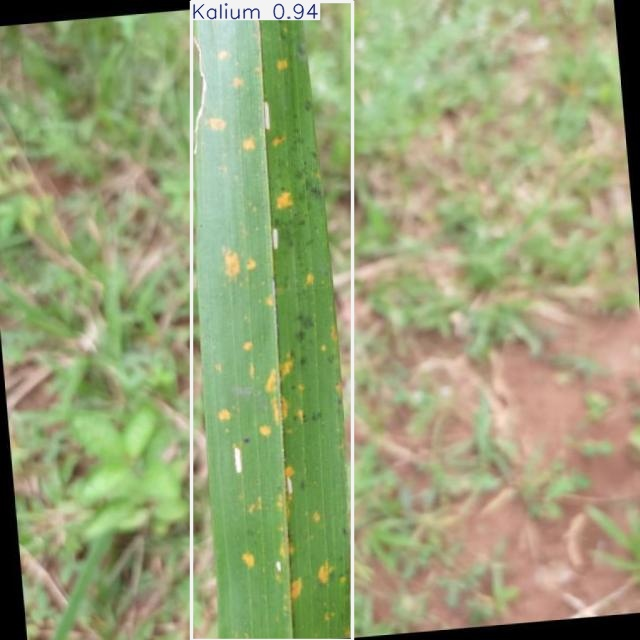Kalium: (192, 1, 352, 640)
